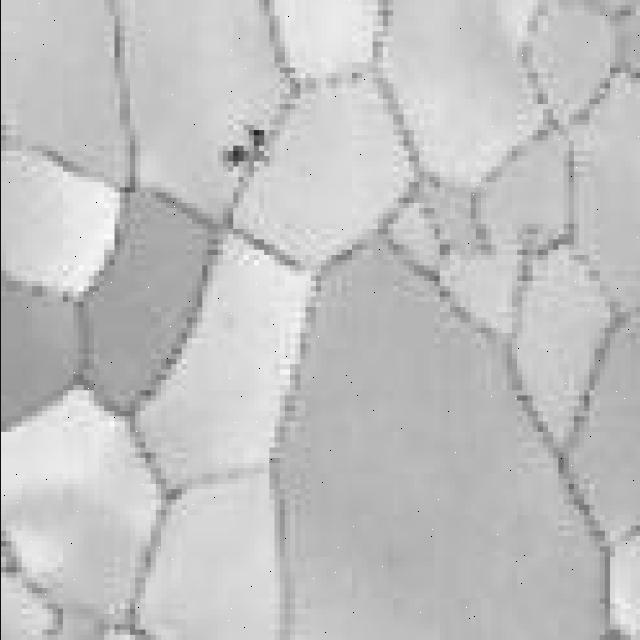good_void: (225, 147, 249, 169), (247, 127, 269, 149)
